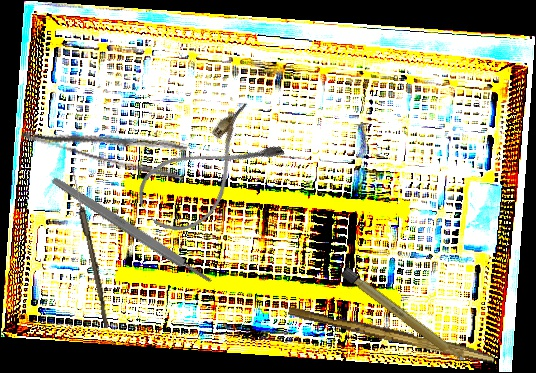Cannula: (128, 100, 288, 245)
Dressing Forceps: (20, 102, 189, 183)
Scalpel Handle: (50, 174, 214, 287), (339, 265, 469, 368), (286, 305, 497, 364)
Surgical Spoon: (67, 166, 113, 328)
